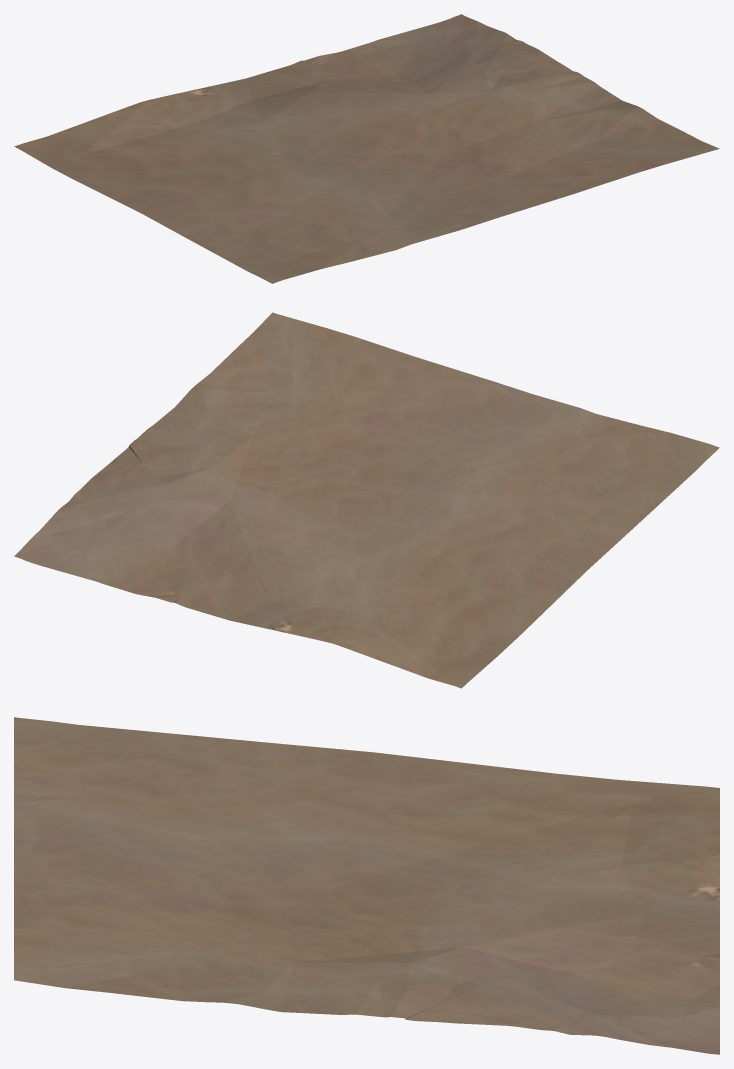
3 renders of one model, top to bottom at view 1: azimuth 30°, elevation 25°; view 2: azimuth 150°, elevation 25°; view 3: azimuth 270°, elevation 25°, orthographic. The views are drawn at different scales.
Size of the model in its own units: 2.09 by 0.3467 by 2.09.
Materials: 3 (3 with a texture image).
